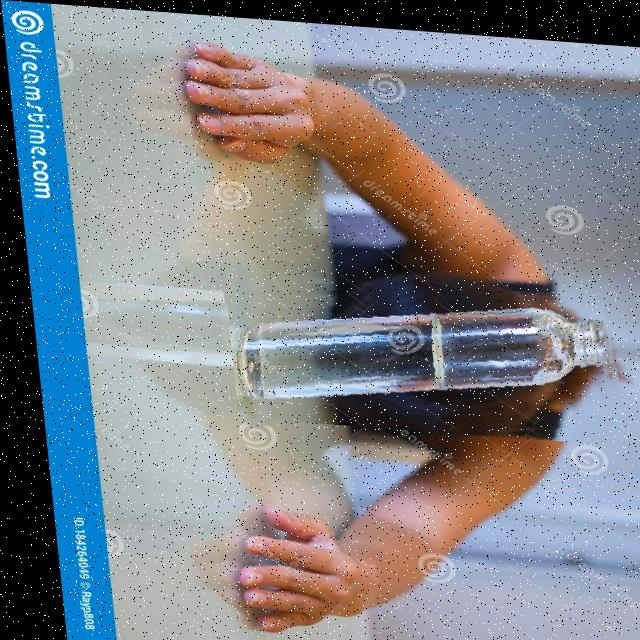litter: (217, 267, 618, 437)
